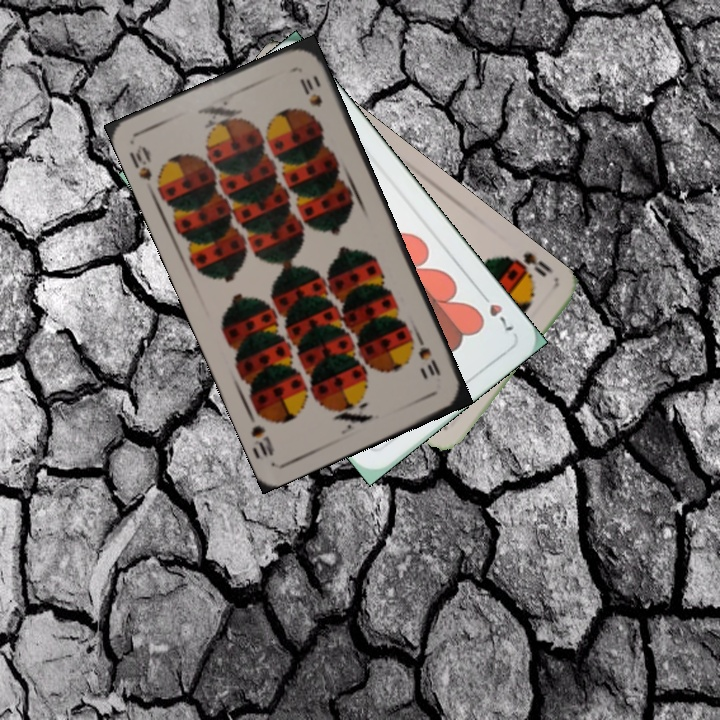H7: (475, 287, 517, 334)
S10: (125, 140, 157, 197), (413, 332, 444, 379)
SO: (500, 248, 556, 281)
